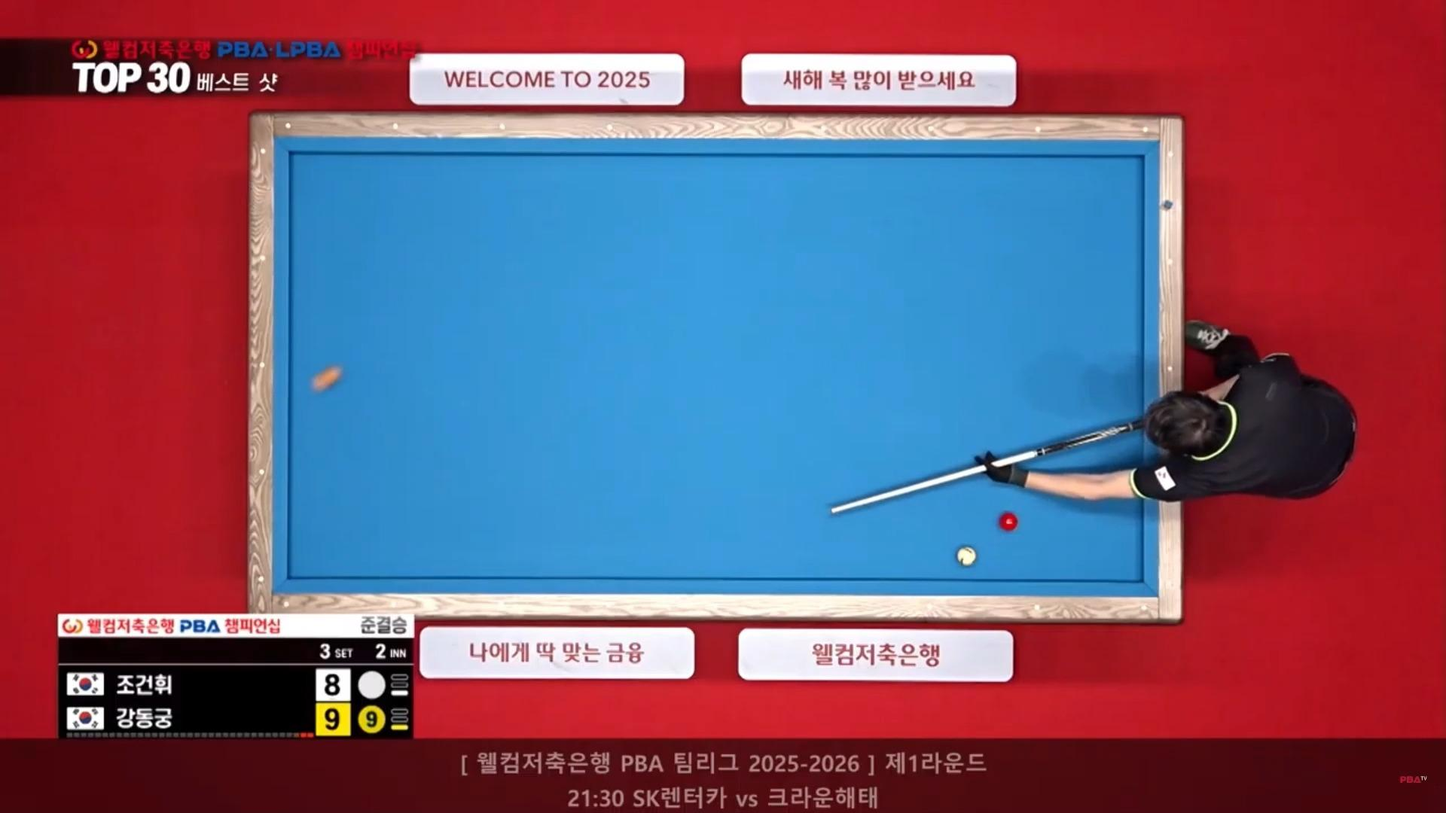Red: (1000, 515, 1024, 534)
White: (954, 546, 980, 566)
billiard-ball-Yellow: (304, 360, 350, 395)
